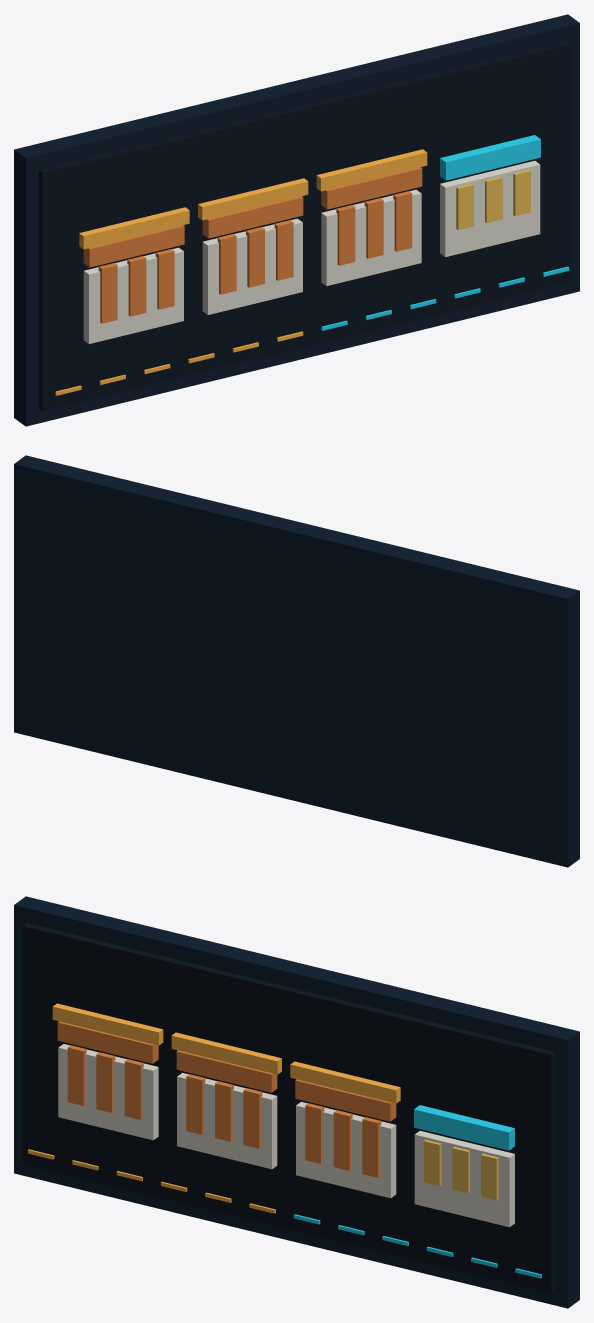
File: 06_L77_CopperDielectricLayerCrossSection.fbx
The picture shows the model from 3 angles, top to bottom: view 1: azimuth 30°, elevation 25°; view 2: azimuth 150°, elevation 25°; view 3: azimuth 330°, elevation 25°; orthographic projection.
Visible parts, largest first — view 1: CopperDielectricLayerCrossSection, CopperDielectricLayerCrossSection_Part_0020, CopperDielectricLayerCrossSection_Part_0002, CopperDielectricLayerCrossSection_Part_0014, CopperDielectricLayerCrossSection_Part_0008, CopperDielectricLayerCrossSection_Part_0021, CopperDielectricLayerCrossSection_Part_0015, CopperDielectricLayerCrossSection_Part_0003, CopperDielectricLayerCrossSection_Part_0009, CopperDielectricLayerCrossSection_Part_0019, CopperDielectricLayerCrossSection_Part_0007, CopperDielectricLayerCrossSection_Part_0013 (+12 smaller); view 2: CopperDielectricLayerCrossSection; view 3: CopperDielectricLayerCrossSection, CopperDielectricLayerCrossSection_Part_0020, CopperDielectricLayerCrossSection_Part_0014, CopperDielectricLayerCrossSection_Part_0002, CopperDielectricLayerCrossSection_Part_0008, CopperDielectricLayerCrossSection_Part_0021, CopperDielectricLayerCrossSection_Part_0003, CopperDielectricLayerCrossSection_Part_0009, CopperDielectricLayerCrossSection_Part_0015, CopperDielectricLayerCrossSection_Part_0007, CopperDielectricLayerCrossSection_Part_0013, CopperDielectricLayerCrossSection_Part_0019 (+12 smaller).
Part boxes in pixels (x1,y1,x2,y2): CopperDielectricLayerCrossSection: [14, 14, 579, 426]; CopperDielectricLayerCrossSection_Part_0020: [440, 160, 540, 256]; CopperDielectricLayerCrossSection_Part_0002: [83, 247, 183, 343]; CopperDielectricLayerCrossSection_Part_0014: [321, 189, 421, 286]; CopperDielectricLayerCrossSection_Part_0008: [202, 218, 302, 314]; CopperDielectricLayerCrossSection_Part_0021: [440, 135, 540, 180]; CopperDielectricLayerCrossSection_Part_0015: [321, 167, 422, 209]; CopperDielectricLayerCrossSection_Part_0003: [83, 225, 184, 267]; CopperDielectricLayerCrossSection_Part_0009: [202, 196, 303, 238]; CopperDielectricLayerCrossSection_Part_0019: [316, 149, 427, 191]; CopperDielectricLayerCrossSection_Part_0007: [79, 207, 189, 249]; CopperDielectricLayerCrossSection_Part_0013: [198, 178, 308, 220]; CopperDielectricLayerCrossSection: [14, 455, 579, 867]; CopperDielectricLayerCrossSection: [14, 896, 579, 1308]; CopperDielectricLayerCrossSection_Part_0020: [414, 1131, 514, 1227]; CopperDielectricLayerCrossSection_Part_0014: [296, 1101, 396, 1198]; CopperDielectricLayerCrossSection_Part_0002: [58, 1044, 158, 1140]; CopperDielectricLayerCrossSection_Part_0008: [177, 1073, 277, 1169]; CopperDielectricLayerCrossSection_Part_0021: [414, 1105, 514, 1150]; CopperDielectricLayerCrossSection_Part_0003: [57, 1021, 158, 1063]; CopperDielectricLayerCrossSection_Part_0009: [176, 1050, 277, 1092]; CopperDielectricLayerCrossSection_Part_0015: [295, 1079, 396, 1121]; CopperDielectricLayerCrossSection_Part_0007: [52, 1003, 163, 1045]; CopperDielectricLayerCrossSection_Part_0013: [171, 1032, 281, 1074]; CopperDielectricLayerCrossSection_Part_0019: [290, 1061, 400, 1103].
Size of the model in its own units: 350 by 162 by 25.25.
